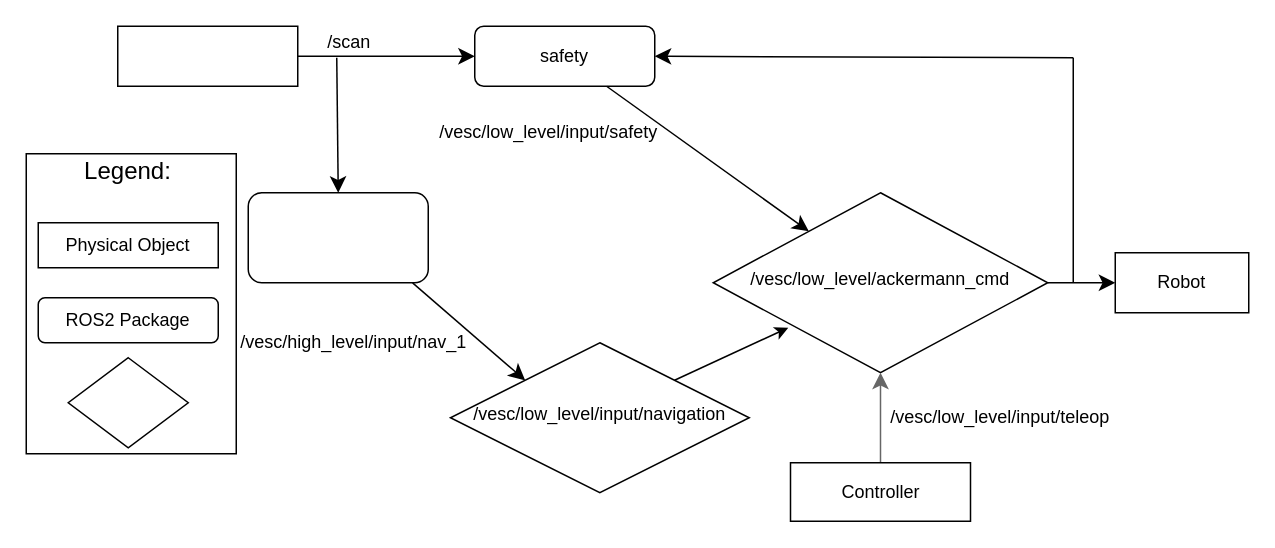
The diagram is 1275 pixels wide and 548 high, and some of its shapes have lost their labels. The centre of each missing label's shape, as x and y in pixels:
"LIDAR sensor" goes at (207,55).
"Topic" goes at (127,402).
"wall_follower" goes at (337,237).
